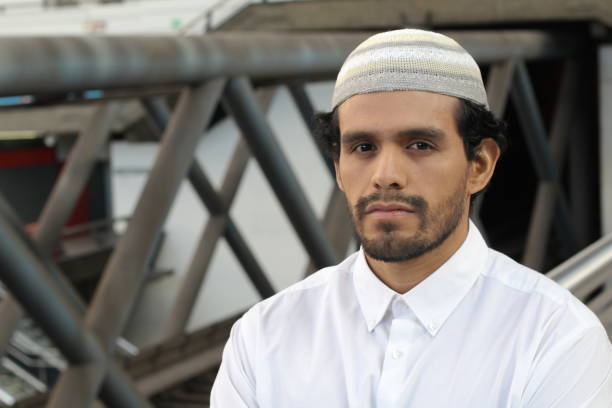person: (328, 29, 502, 264)
